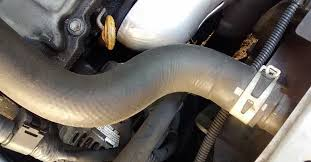radiator_hose: (1, 19, 286, 128)
